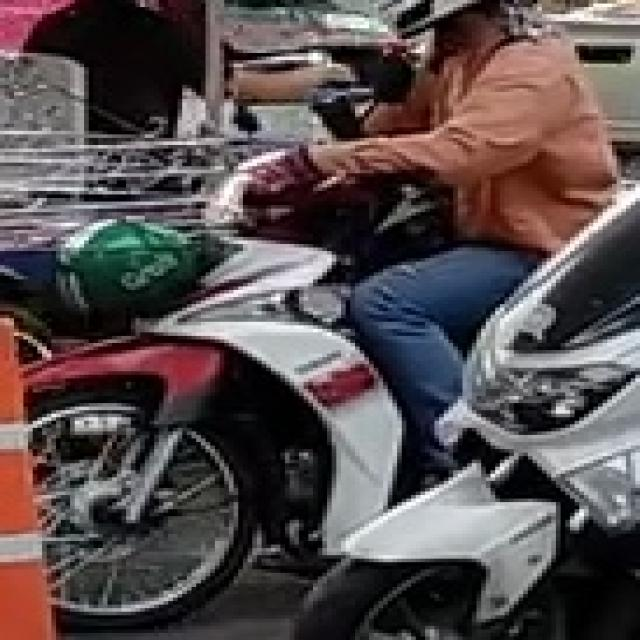door: (0, 304, 61, 637)
helmet: (51, 216, 206, 318), (374, 0, 542, 39)
